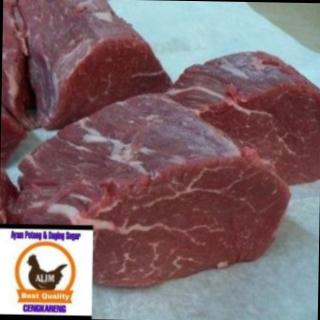Daging Sapi: (4, 94, 286, 285), (4, 1, 175, 121), (181, 55, 320, 184)
